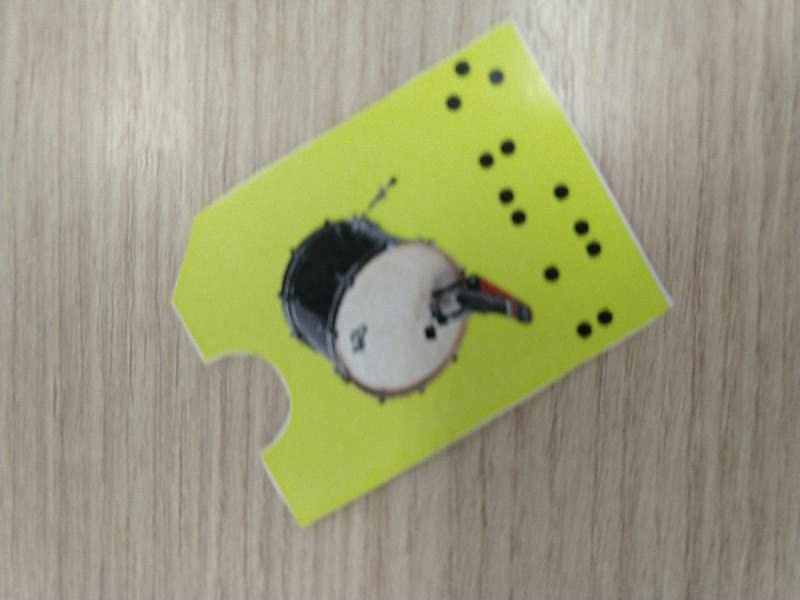bumbo: (165, 16, 674, 539)
